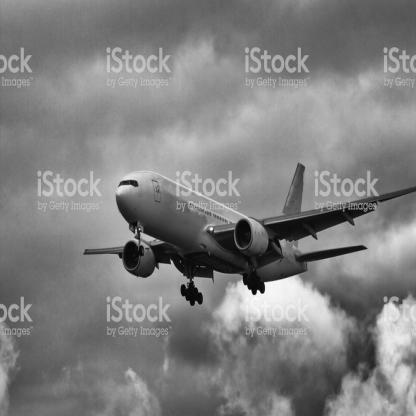CIV_Plane: (78, 161, 414, 306)
